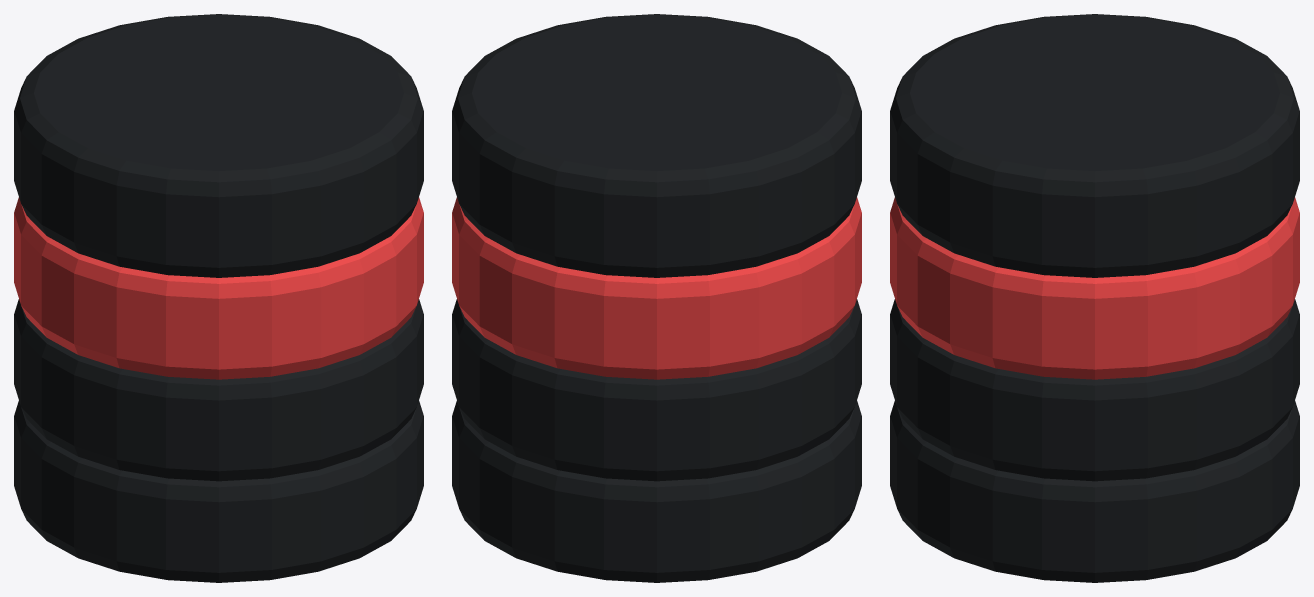
The model's file is tire_stack.glb.
3 renders of one model, left to right at view 1: azimuth 30°, elevation 25°; view 2: azimuth 150°, elevation 25°; view 3: azimuth 270°, elevation 25°, orthographic.
Visible parts, largest first — view 1: Tire_3, Tire_2, Tire_0, Tire_1; view 2: Tire_3, Tire_2, Tire_0, Tire_1; view 3: Tire_3, Tire_2, Tire_0, Tire_1.
Boxes of the visible parts, x1,y1,x2,y2 form: Tire_3: [14, 14, 423, 277]; Tire_2: [14, 197, 423, 379]; Tire_0: [14, 401, 423, 582]; Tire_1: [14, 299, 423, 481]; Tire_3: [452, 14, 861, 277]; Tire_2: [452, 197, 861, 379]; Tire_0: [452, 401, 861, 582]; Tire_1: [452, 299, 861, 481]; Tire_3: [890, 14, 1299, 277]; Tire_2: [890, 197, 1299, 379]; Tire_0: [890, 401, 1299, 582]; Tire_1: [890, 299, 1299, 481].
Bounding box in the file's own units: 0.84 × 0.93 × 0.84.
